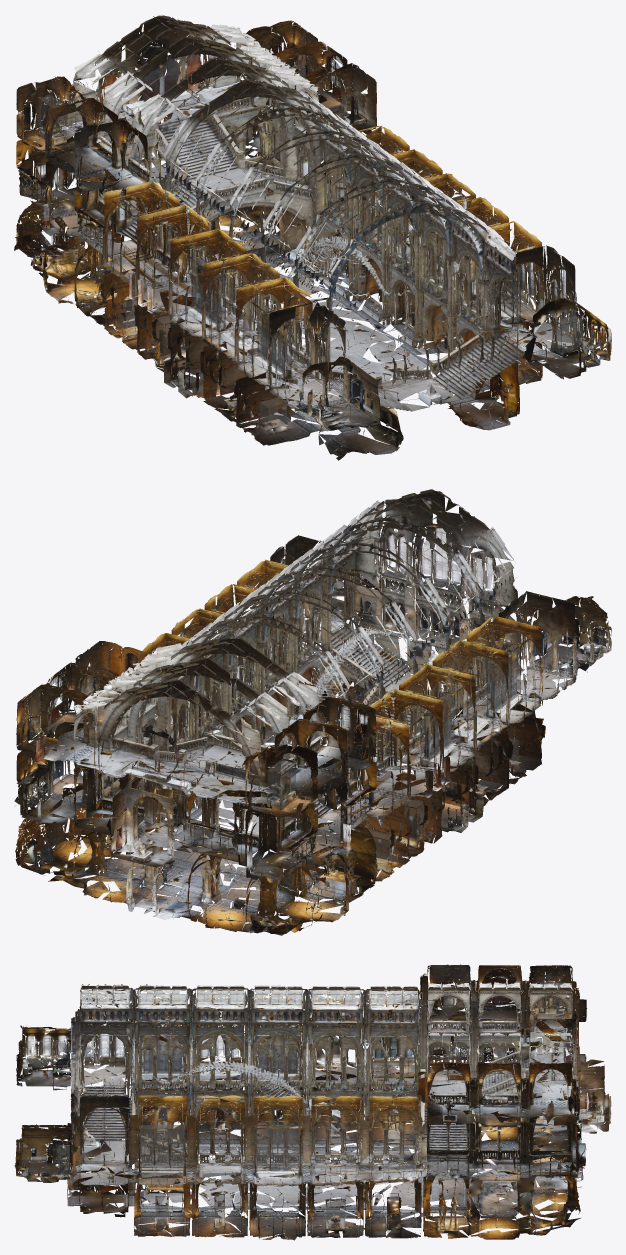
The model's file is hall.glb.
3 renders of one model, top to bottom at view 1: azimuth 30°, elevation 25°; view 2: azimuth 150°, elevation 25°; view 3: azimuth 270°, elevation 25°, orthographic. The views are drawn at different scales.
Parts seen in each view (by area): view 1: Object_3, Object_2, Object_45; view 2: Object_3, Object_2, Object_45; view 3: Object_3, Object_2, Object_45.
Part boxes in pixels (x1=…): Object_3: x1=14, y1=15, x2=611, y2=460; Object_2: x1=15, y1=15, x2=611, y2=452; Object_45: x1=38, y1=95, x2=582, y2=433; Object_3: x1=14, y1=489, x2=611, y2=935; Object_2: x1=14, y1=492, x2=611, y2=934; Object_45: x1=85, y1=577, x2=520, y2=870; Object_3: x1=14, y1=964, x2=611, y2=1240; Object_2: x1=15, y1=964, x2=611, y2=1239; Object_45: x1=58, y1=983, x2=564, y2=1232.
Bounding box in the file's own units: 32.45 × 23.28 × 64.97.
Materials: 3 (2 with a texture image).
